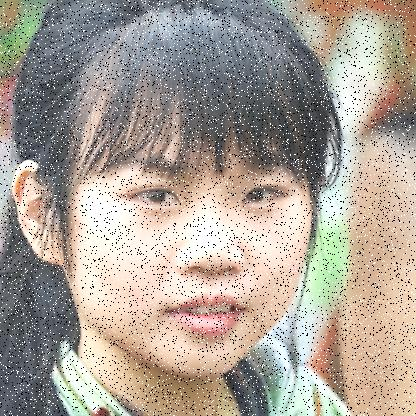eyeee: (118, 184, 186, 208), (238, 182, 292, 207)
mouthhz: (162, 288, 249, 336)
nosebb: (174, 203, 247, 275)
